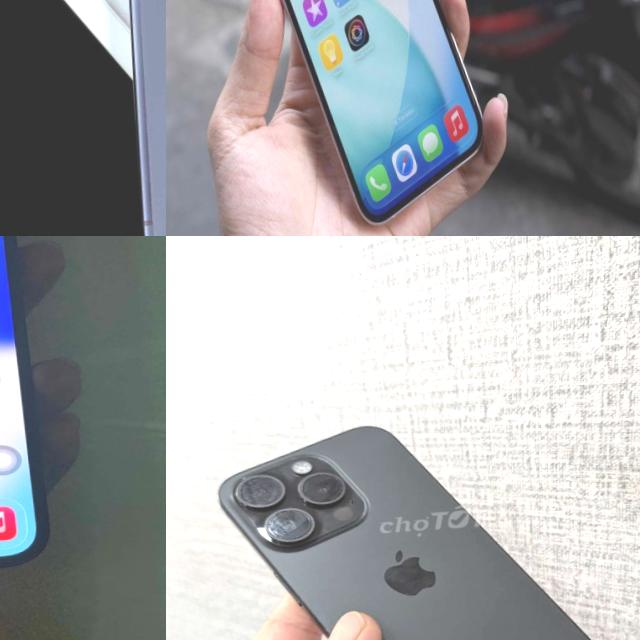gen_12_13: (0, 236, 46, 589)
gen_15: (182, 400, 630, 640)
gen_17: (223, 0, 498, 234), (98, 0, 166, 236)
